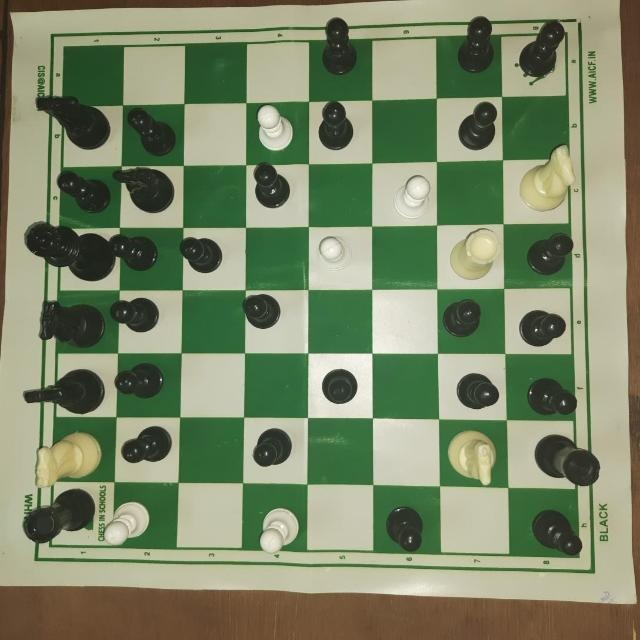black-knight: (30, 95, 113, 159), (18, 364, 109, 415), (27, 299, 111, 349), (113, 162, 177, 217)
black-pawn: (527, 507, 586, 565), (519, 20, 566, 86), (322, 16, 366, 84), (312, 98, 360, 156), (108, 290, 169, 335), (56, 168, 112, 216), (456, 17, 496, 81), (451, 104, 501, 154), (127, 107, 175, 159), (526, 233, 573, 283), (178, 233, 224, 283), (239, 287, 284, 338), (524, 377, 578, 419), (115, 361, 169, 401), (386, 504, 430, 553), (121, 426, 173, 467), (520, 301, 564, 348), (246, 424, 293, 468), (249, 162, 293, 209), (112, 230, 157, 274), (455, 368, 499, 412), (443, 298, 482, 343), (317, 366, 358, 406)
black-queen: (19, 219, 121, 287)
black-rook: (22, 488, 98, 547), (528, 432, 603, 488)
white-knight: (32, 431, 104, 493), (515, 146, 573, 218), (445, 430, 506, 484), (450, 227, 500, 282)
white-pawn: (101, 496, 150, 548), (250, 107, 300, 151), (389, 172, 431, 222), (254, 511, 299, 555), (313, 233, 352, 268)
